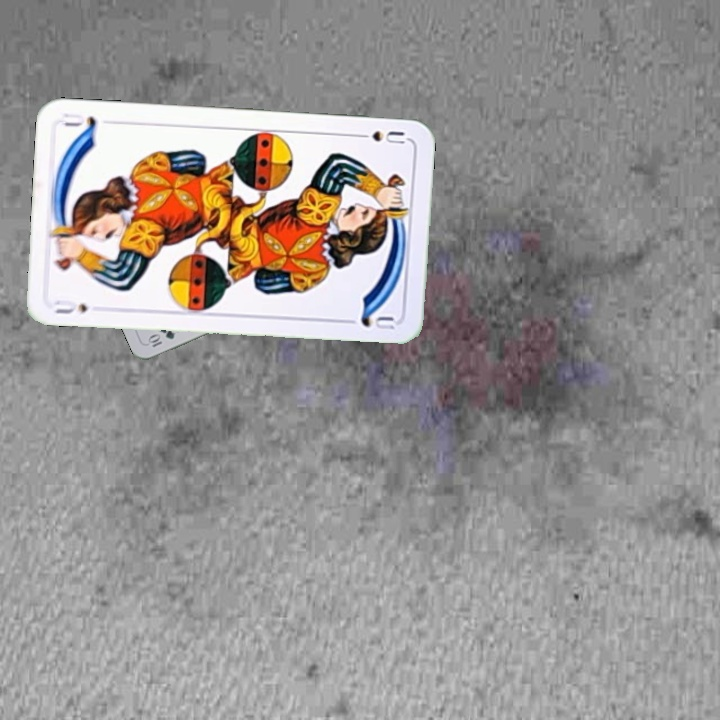G10: (144, 326, 177, 350)
SU: (350, 127, 408, 147), (51, 295, 91, 317)
